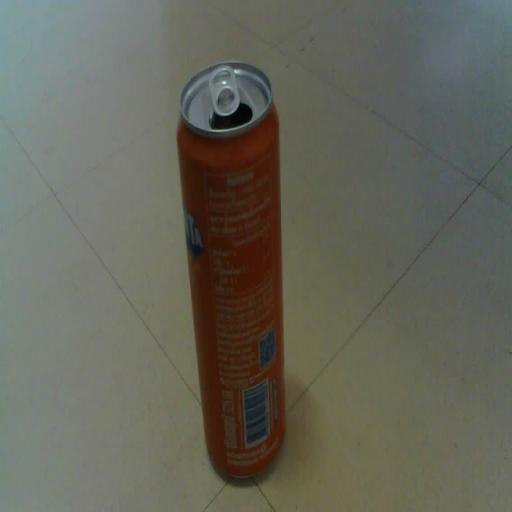canned: (166, 47, 300, 480)
